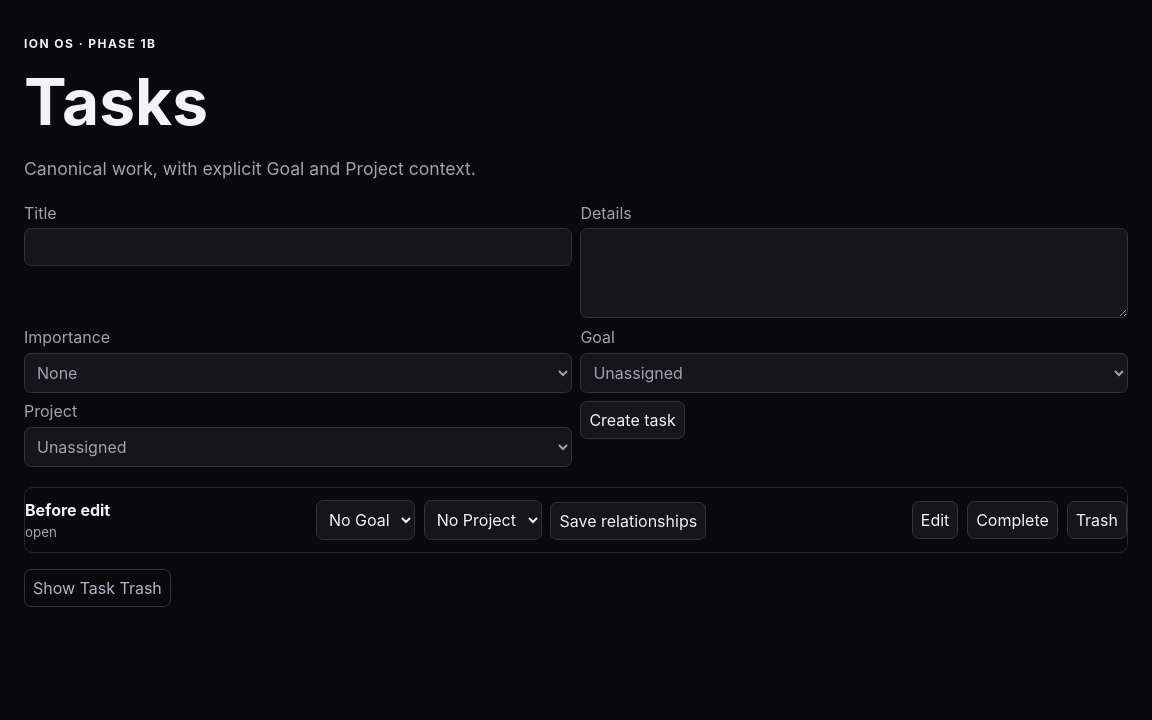
confirms complete, reopen, Trash, and restore before changing canonical UI
This screenshot has width=1152, height=720.
Step 1. Click the button "Complete" → (1012, 520), box [967,501,1058,539]
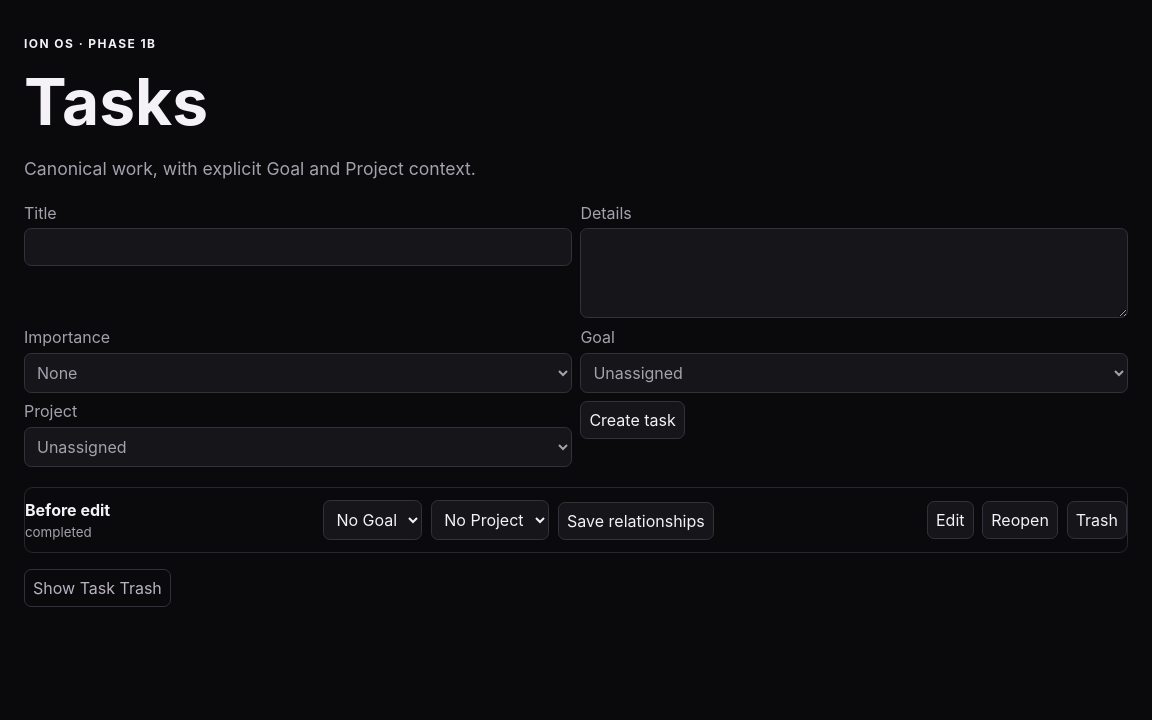
Expected: the text "open" is shown, [25,524,92,540]
Step 2. Click the button "Reopen" → (1020, 520), box [982,501,1058,539]
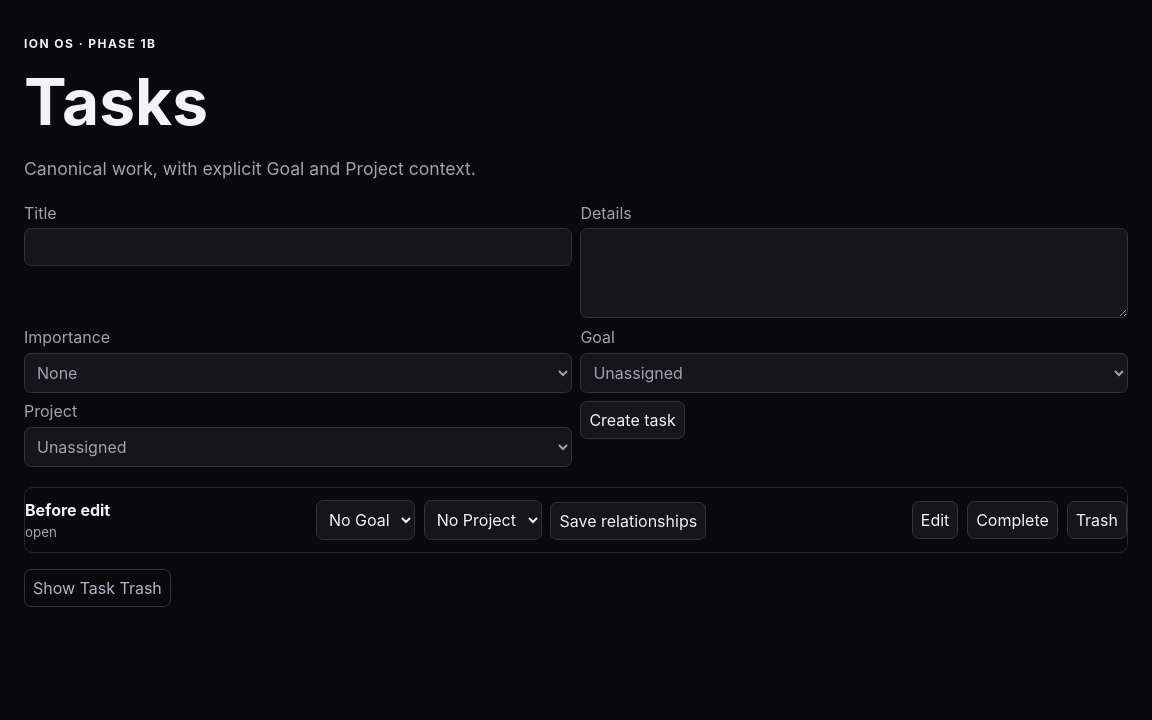
Now the button "Complete" is shown, box [967,501,1058,539]
Step 3. Click the button "Trash" → (1097, 520), box [1067,501,1127,539]
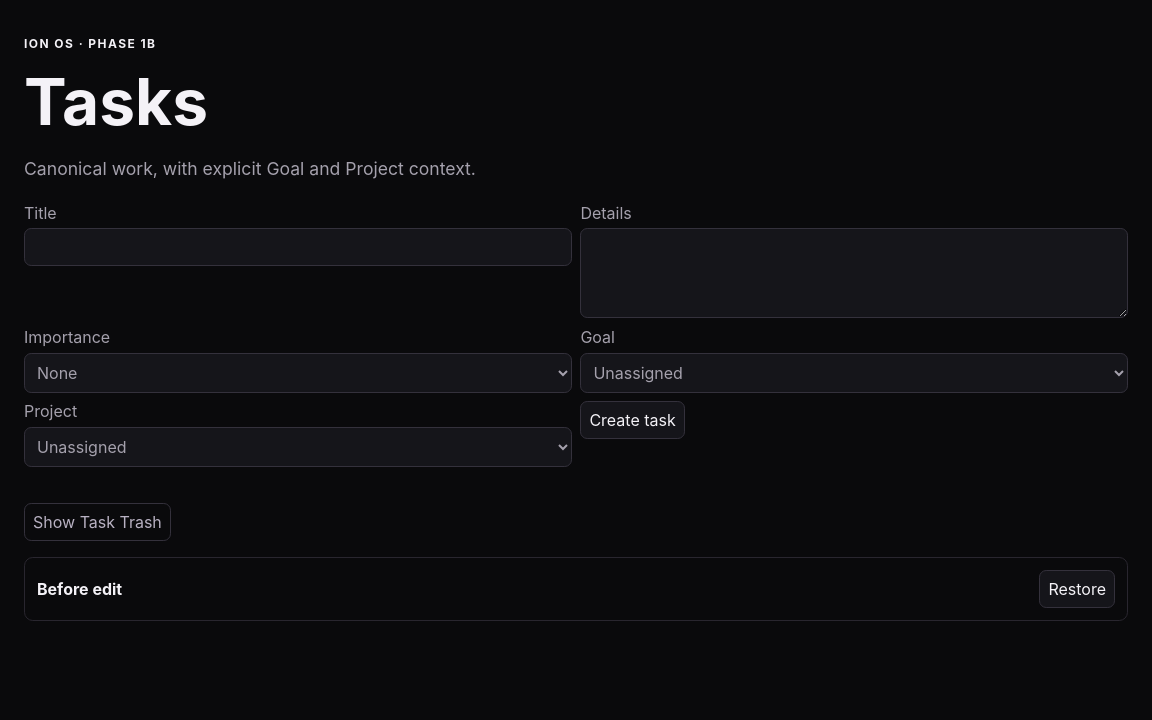
Now the button "Restore" is shown
Step 4. Click the button "Restore" → (1077, 589), box [1039,570,1115,608]
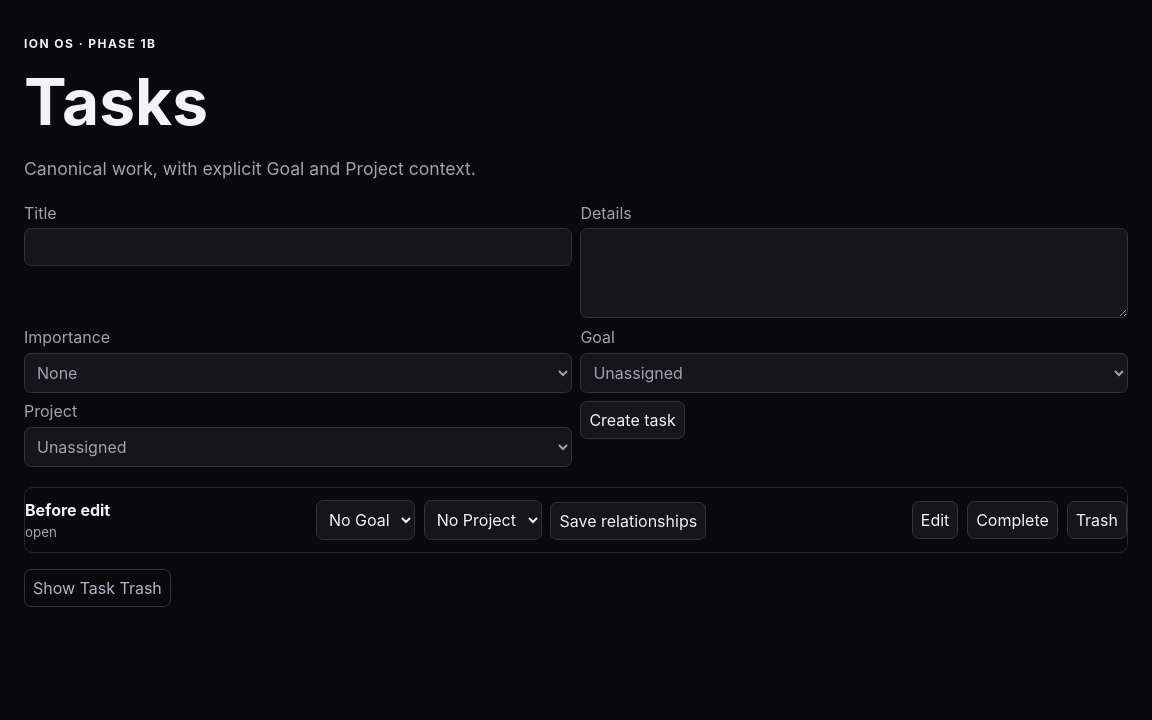
Expected: the text "Before edit" is shown, [25,500,110,520]
Now the button "Complete" is shown, box [967,501,1058,539]
